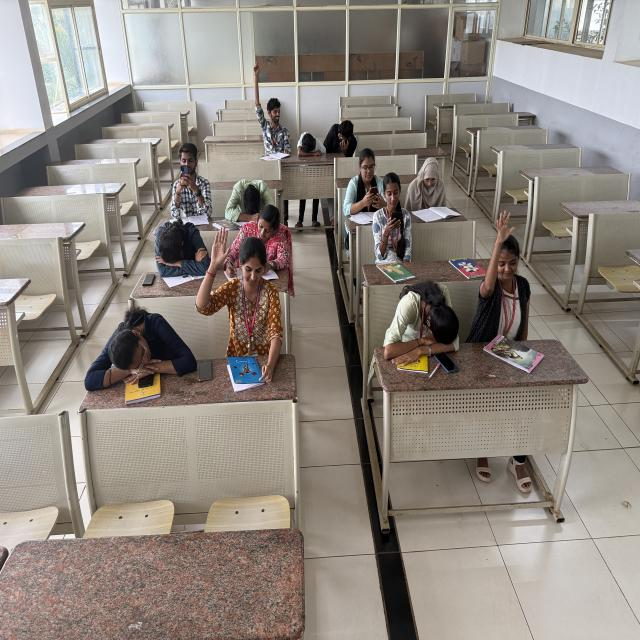Hand Rising: (197, 229, 281, 355), (473, 210, 539, 335), (245, 58, 291, 154)
Reading: (405, 157, 462, 221)
Sleeping: (83, 306, 194, 388), (385, 280, 463, 359), (151, 213, 211, 278), (226, 172, 277, 220), (295, 128, 328, 158)
Using Phone: (160, 141, 213, 217), (344, 148, 388, 220), (374, 172, 413, 253), (322, 121, 358, 158)
